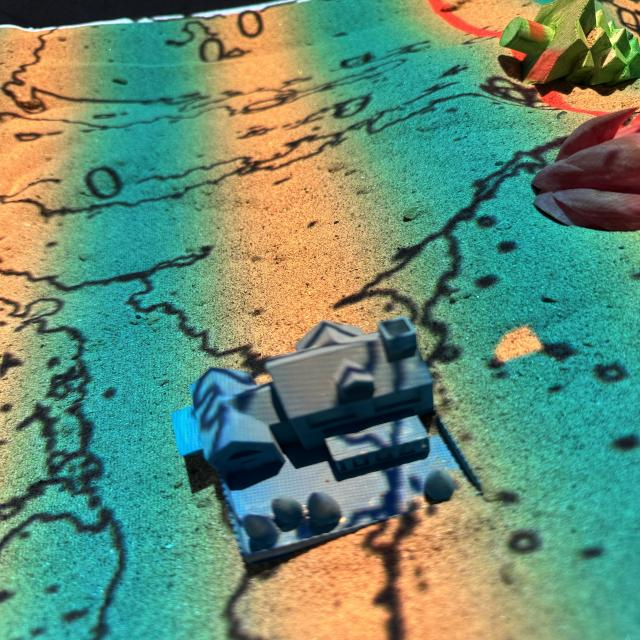fire: (533, 107, 640, 232)
house: (172, 315, 483, 563)
tree: (503, 0, 640, 95)
